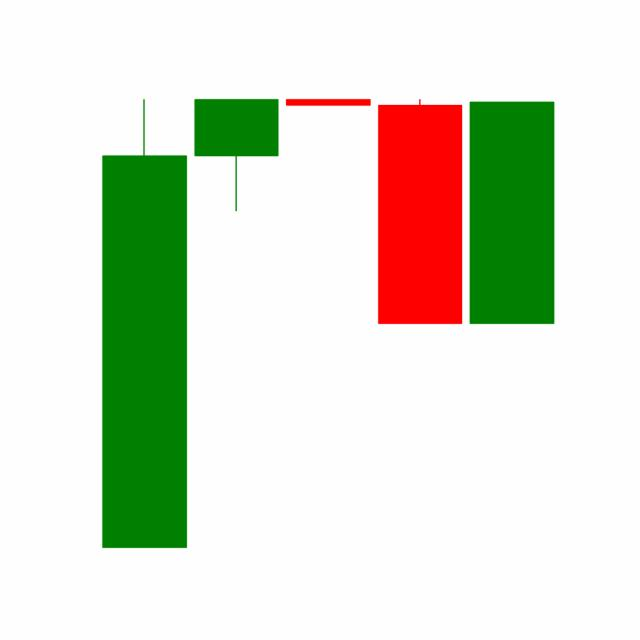Marubozu: (373, 96, 467, 326)
